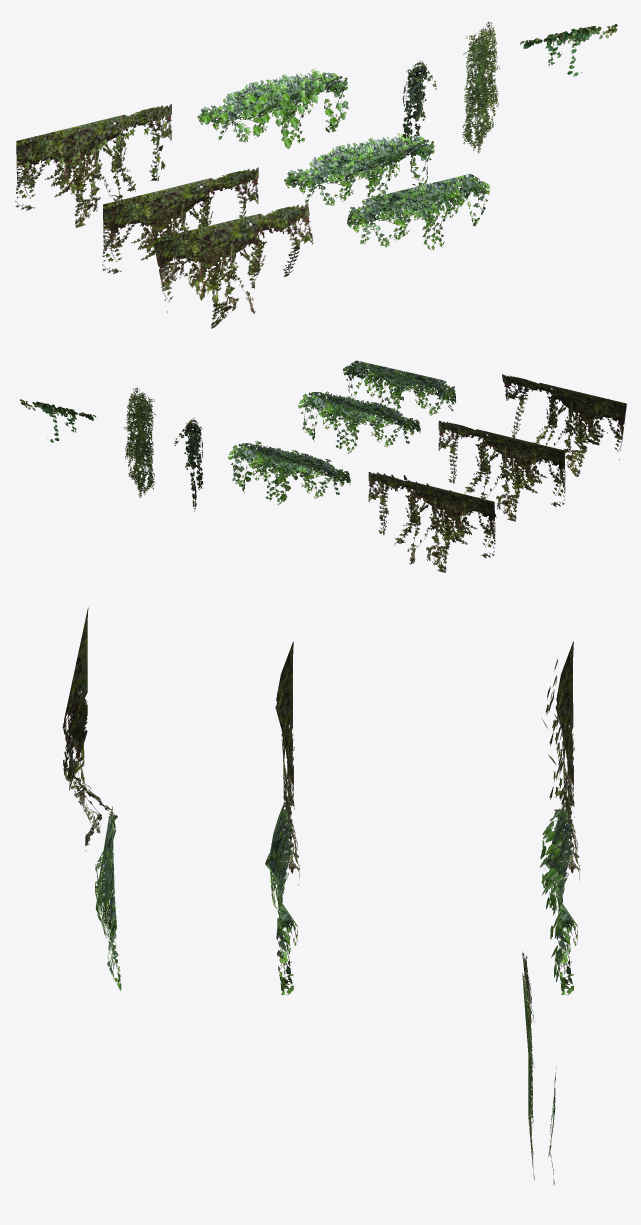
File: low_poly_ivy.glb
3 renders of one model, top to bottom at view 1: azimuth 30°, elevation 25°; view 2: azimuth 150°, elevation 25°; view 3: azimuth 270°, elevation 25°, orthographic. The views are drawn at different scales.
Visible parts, largest first — view 1: ivy 1 lod 0_6, ivy 1 lod 2_8, ivy 1 lod 1_5, ivy 2 lod 0_4, ivy 2 lod 1_3, ivy 2 lod 2_7, small ivy_2, small ivy.001_1, small ivy.002_0; view 2: ivy 1 lod 0_6, ivy 1 lod 1_5, ivy 1 lod 2_8, ivy 2 lod 0_4, ivy 2 lod 1_3, ivy 2 lod 2_7, small ivy_2, small ivy.001_1, small ivy.002_0; view 3: ivy 2 lod 0_4, ivy 1 lod 2_8, ivy 1 lod 0_6, ivy 2 lod 1_3, ivy 1 lod 1_5, ivy 2 lod 2_7, small ivy_2.
Part boxes in pixels (left/top/right/bottom): ivy 1 lod 0_6: left=15, top=104, right=172, bottom=227; ivy 1 lod 2_8: left=153, top=203, right=313, bottom=328; ivy 1 lod 1_5: left=102, top=167, right=258, bottom=291; ivy 2 lod 0_4: left=197, top=68, right=348, bottom=149; ivy 2 lod 1_3: left=284, top=133, right=434, bottom=205; ivy 2 lod 2_7: left=347, top=173, right=490, bottom=250; small ivy_2: left=462, top=21, right=499, bottom=153; small ivy.001_1: left=402, top=60, right=436, bottom=169; small ivy.002_0: left=520, top=24, right=617, bottom=76; ivy 1 lod 0_6: left=368, top=472, right=496, bottom=572; ivy 1 lod 1_5: left=438, top=420, right=565, bottom=521; ivy 1 lod 2_8: left=502, top=374, right=626, bottom=476; ivy 2 lod 0_4: left=228, top=440, right=350, bottom=505; ivy 2 lod 1_3: left=298, top=391, right=420, bottom=453; ivy 2 lod 2_7: left=343, top=360, right=455, bottom=420; small ivy_2: left=123, top=388, right=155, bottom=497; small ivy.001_1: left=174, top=418, right=203, bottom=511; small ivy.002_0: left=20, top=399, right=96, bottom=442; ivy 2 lod 0_4: left=539, top=802, right=577, bottom=995; ivy 1 lod 2_8: left=62, top=607, right=117, bottom=851; ivy 1 lod 0_6: left=541, top=641, right=580, bottom=880; ivy 2 lod 1_3: left=265, top=802, right=297, bottom=995; ivy 1 lod 1_5: left=275, top=641, right=299, bottom=885; ivy 2 lod 2_7: left=94, top=806, right=121, bottom=993; small ivy_2: left=522, top=969, right=534, bottom=1180.
Size of the model in its own units: 9.81 by 2.09 by 4.44.
1 material, 1 textured.
